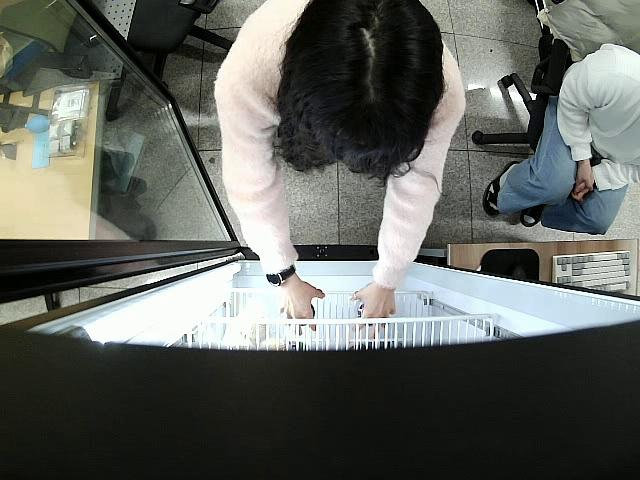00_hand: (277, 283, 325, 336), (349, 288, 395, 341)
